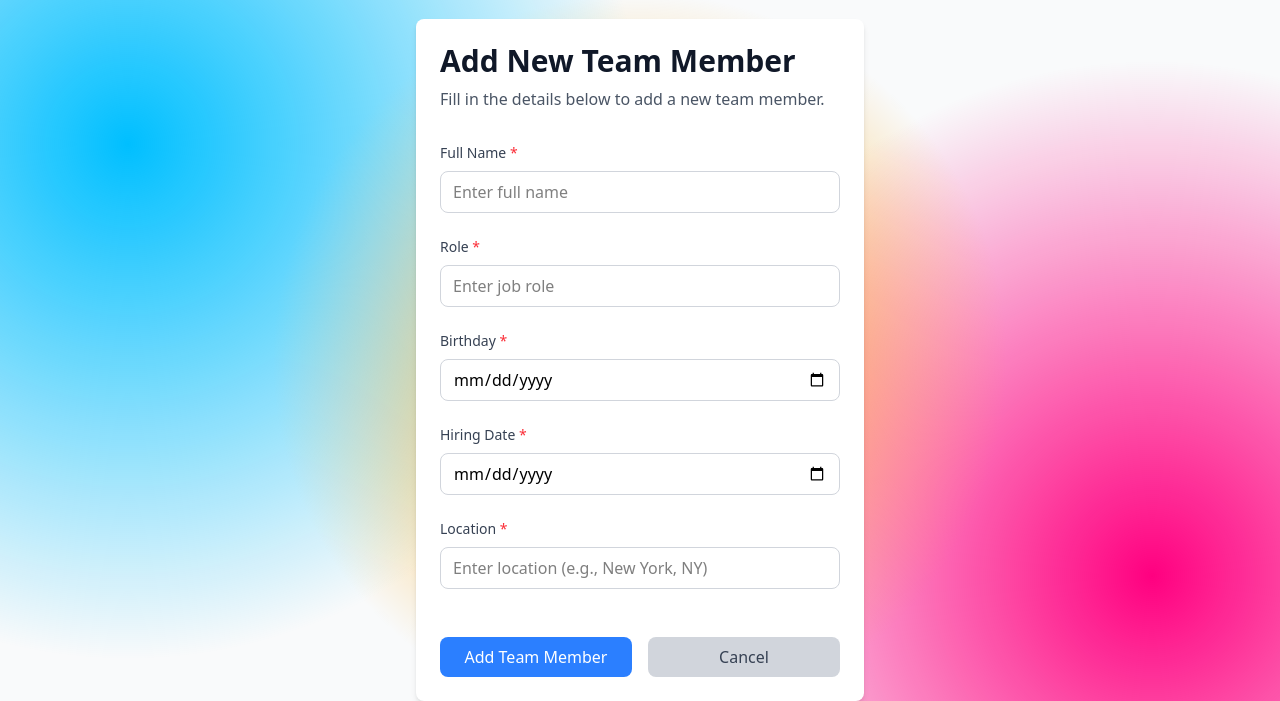
it: AddUserForm › shows error message on submission failure
Step 1. Type "John Doe" into the field labelled "Full Name *" → (640, 192), box [440, 171, 840, 213]
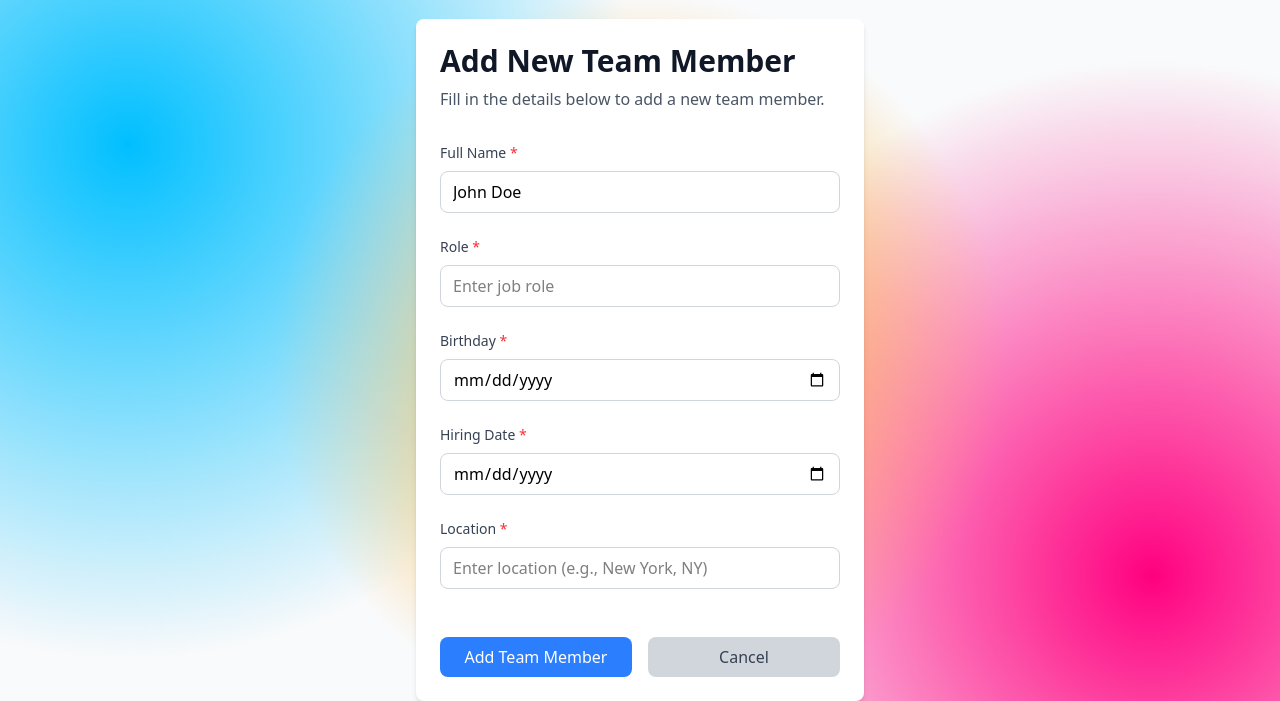
Step 2. Type "Developer" into the field labelled "Role *" → (640, 286), box [440, 265, 840, 307]
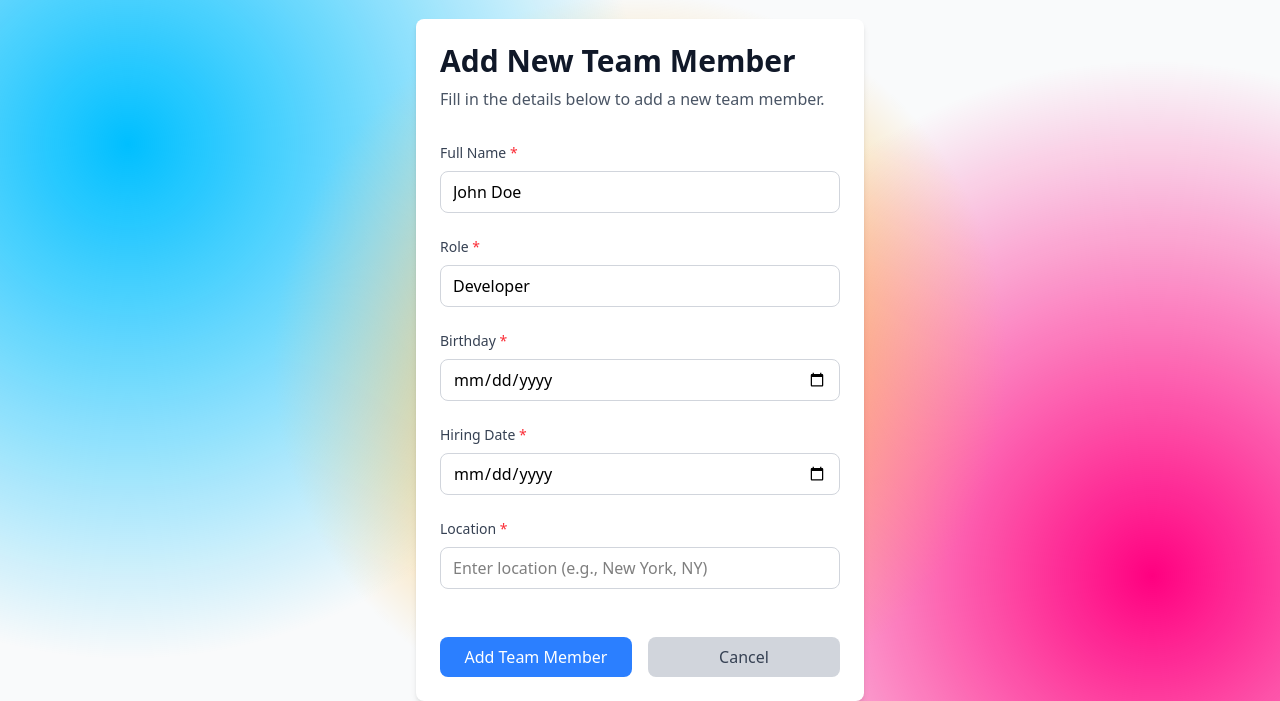
Step 3. Type "1990-01-01" into the date field labelled "Birthday *" → (640, 380), box [440, 359, 840, 401]
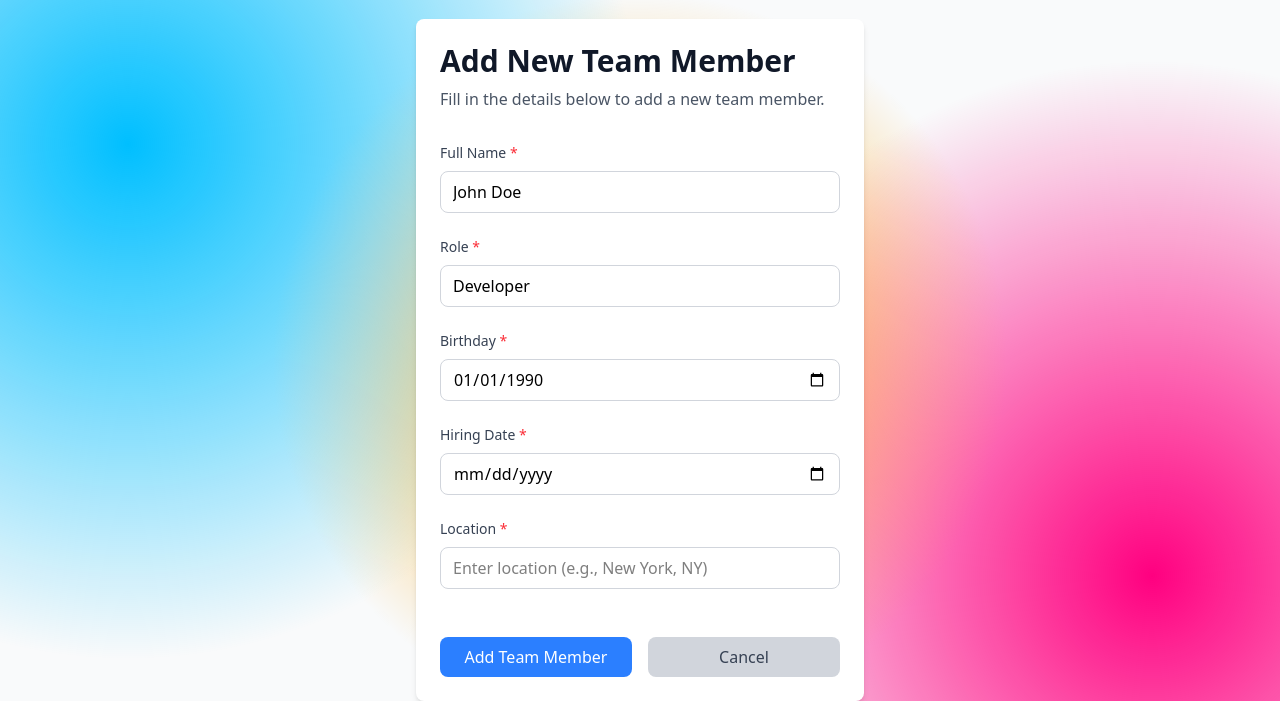
Step 4. Type "2020-01-01" into the date field labelled "Hiring Date *" → (640, 474), box [440, 453, 840, 495]
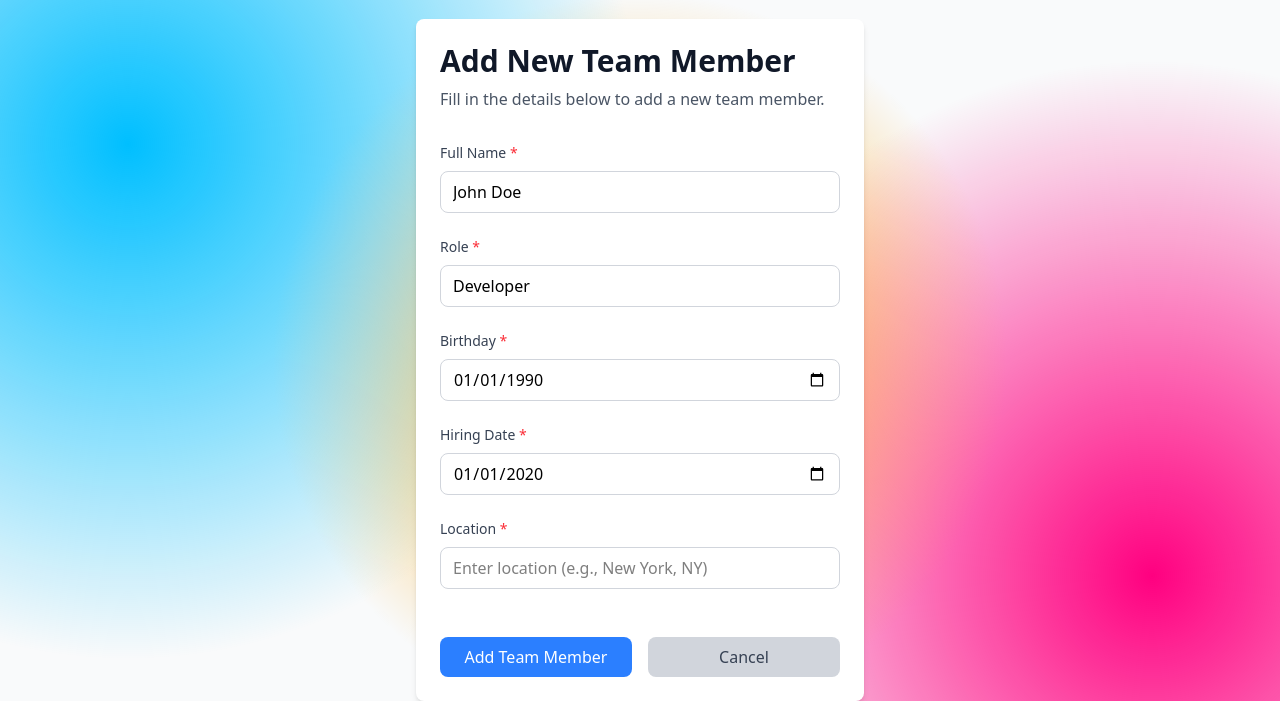
Step 5. Type "New York, NY" into the field labelled "Location *" → (640, 568), box [440, 547, 840, 589]
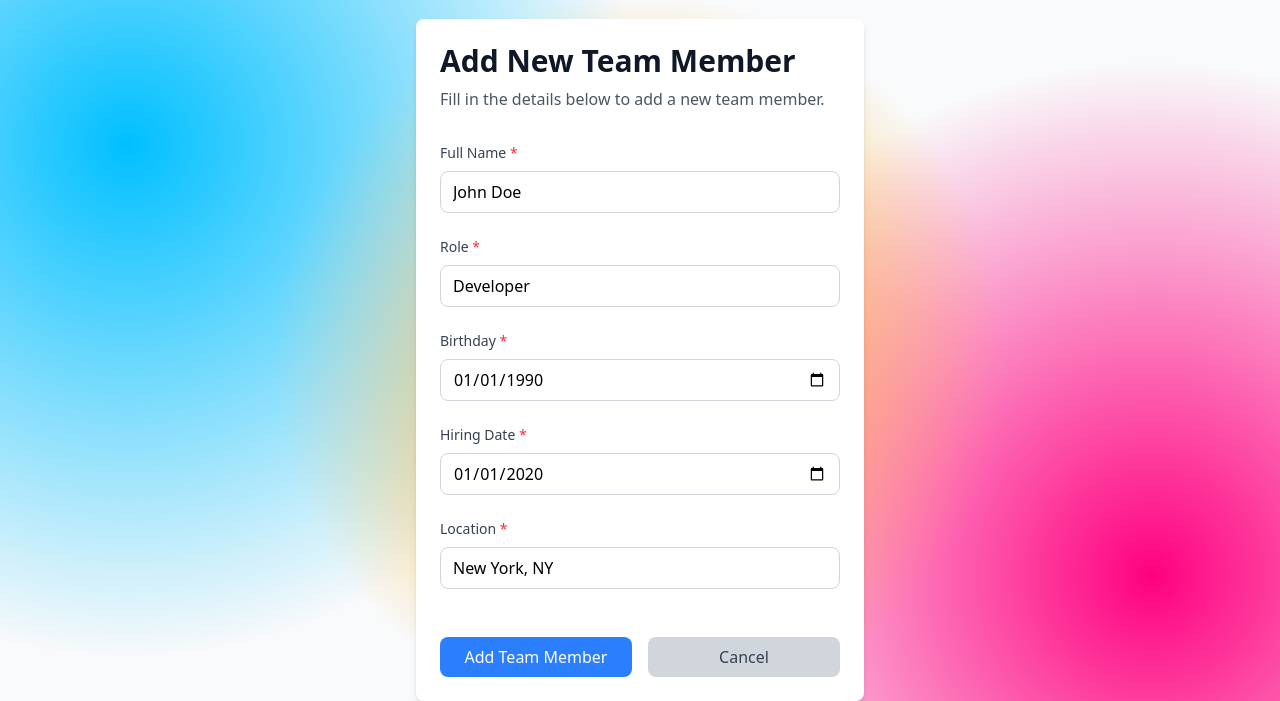
Step 6. Click the button "Add Team Member" → (536, 657), box [440, 637, 632, 677]
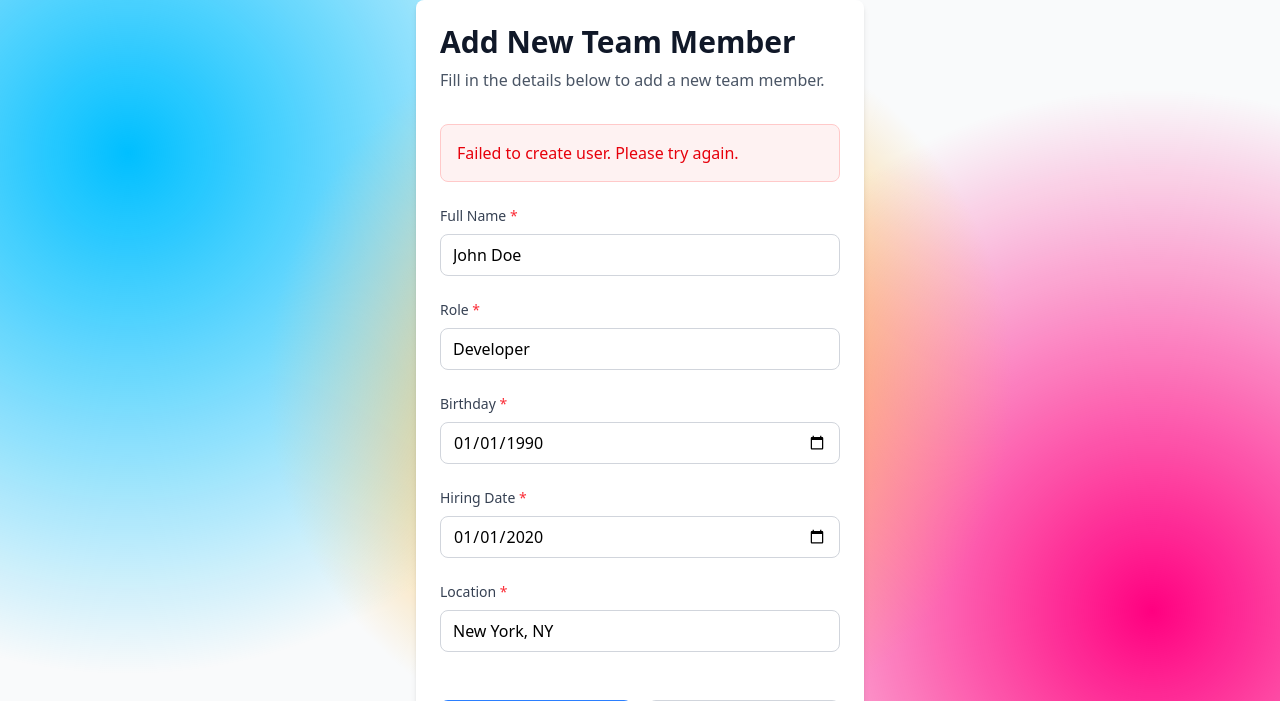
Result: the text "Failed to create user. Please try again." is shown at [457, 142, 739, 164]
